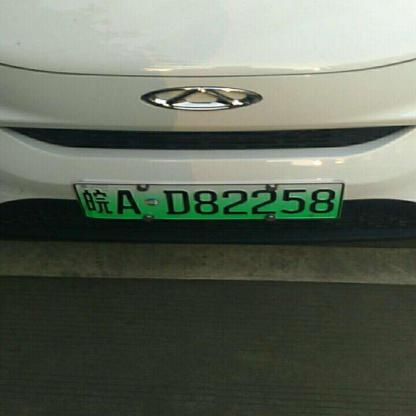lp: (74, 183, 345, 216)
